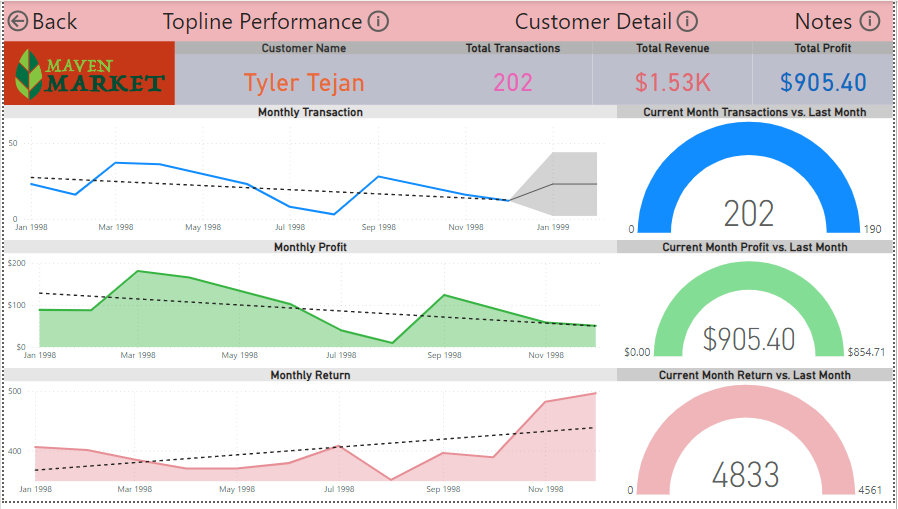

Layout of this report page (visuals, bound fields, positions):
{"tool":"powerbi","page":{"name":"Single Customer","canvas":[1280,720],"ordinal":3},"visuals":[{"type":"image","box":[0,57.6,246.2,96.5],"z":0},{"type":"card","title":"Customer Name","fields":{"Values":["Min(Customers.full_name)"]},"box":[246.2,57.6,371.5,92.2],"z":3000},{"type":"lineChart","title":"Monthly Transaction","fields":{"Y":["Key Measures.Total Transactions"],"Category":["Calendar.Start of Month"]},"box":[0,149.8,882.7,194.4],"z":4000},{"type":"areaChart","title":"Monthly Profit","fields":{"Category":["Calendar.Start of Month"],"Y":["Key Measures.Total Profit"]},"box":[0,344.2,882.7,184.3],"z":5000},{"type":"areaChart","title":"Monthly Return","fields":{"Category":["Calendar.Start of Month"],"Y":["Key Measures.Total Returns"]},"box":[0,528.5,882.7,191.5],"z":6000},{"type":"actionButton","box":[146.9,0,109.4,57.6],"z":7000},{"type":"card","title":"Total Transactions","fields":{"Values":["Key Measures.Total Transactions"]},"box":[617.8,57.6,230.4,92.2],"z":7001},{"type":"card","title":"Total Revenue","fields":{"Values":["Key Measures.Total Revenue"]},"box":[848.2,57.6,230.4,92.2],"z":7002},{"type":"card","title":"Total Profit","fields":{"Values":["Key Measures.Total Profit"]},"box":[1078.6,57.6,201.6,92.2],"z":7003},{"type":"gauge","title":"Current Month Transactions vs. Last Month","fields":{"Y":["Key Measures.Total Transactions"],"MaxValue":["Key Measures.Last Month Transactions"]},"box":[882.7,149.8,397.4,194.4],"z":7004},{"type":"gauge","title":"Current Month Profit vs. Last Month","fields":{"Y":["Key Measures.Total Profit"],"MaxValue":["Key Measures.Last Month Profit"]},"box":[882.7,344.2,397.4,184.3],"z":7005},{"type":"gauge","title":"Current Month Return vs. Last Month","fields":{"Y":["Key Measures.Total Returns"],"MaxValue":["Key Measures.Last Month Return"]},"box":[882.7,528.5,397.4,191.5],"z":7006},{"type":"textbox","box":[0,0,1280.2,57.6],"z":7007},{"type":"actionButton","box":[517.8,8.5,99.1,41],"z":7008},{"type":"actionButton","box":[963.8,8.5,99.1,41],"z":7010},{"type":"actionButton","box":[1226.9,8.6,53.3,40.3],"z":7011},{"type":"actionButton","box":[0,8.6,99.4,40.3],"z":7012}]}

Visuals, with their boxes in screenshot pixels (x1, y1, x2, y2), scaled from the page's 1280x720 canvas onto the 898x509 screenshot:
image: 0:41:173:109
"Customer Name" card: 173:41:433:106
"Monthly Transaction" lineChart: 0:106:619:243
"Monthly Profit" areaChart: 0:243:619:374
"Monthly Return" areaChart: 0:374:619:508
actionButton: 103:0:180:41
"Total Transactions" card: 433:41:595:106
"Total Revenue" card: 595:41:757:106
"Total Profit" card: 757:41:897:106
"Current Month Transactions vs. Last Month" gauge: 619:106:897:243
"Current Month Profit vs. Last Month" gauge: 619:243:897:374
"Current Month Return vs. Last Month" gauge: 619:374:897:508
textbox: 0:0:897:41
actionButton: 363:6:433:35
actionButton: 676:6:746:35
actionButton: 861:6:897:35
actionButton: 0:6:70:35
